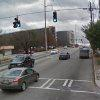Traffic light: (7, 13, 73, 33)
